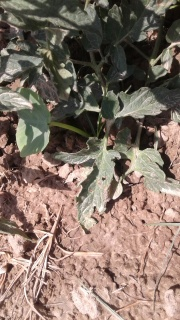tomato diseased leaf: (75, 149, 123, 224)
tomato plant: (7, 1, 169, 117)
